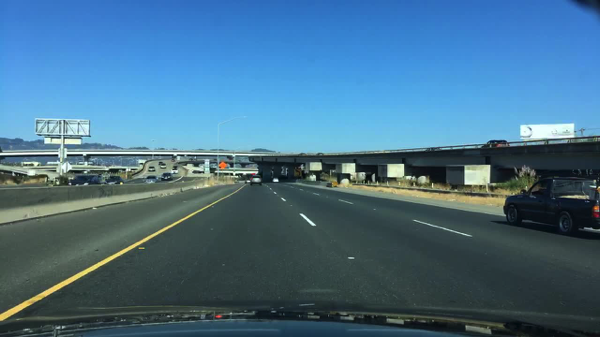car: (503, 176, 599, 235), (66, 174, 102, 186), (104, 175, 124, 186), (480, 140, 509, 147), (143, 175, 159, 184), (250, 174, 263, 185), (161, 172, 173, 181), (425, 147, 441, 151), (170, 168, 178, 174), (272, 177, 279, 183), (148, 165, 155, 171), (244, 178, 252, 183), (189, 157, 197, 162), (172, 165, 179, 170), (160, 163, 166, 168), (315, 152, 323, 155), (170, 158, 176, 162), (298, 153, 307, 155), (158, 161, 162, 165)
traffic sign: (34, 118, 90, 137), (44, 137, 82, 144), (61, 161, 71, 174), (59, 148, 67, 158), (219, 162, 227, 171), (294, 169, 301, 176), (56, 165, 61, 173)
